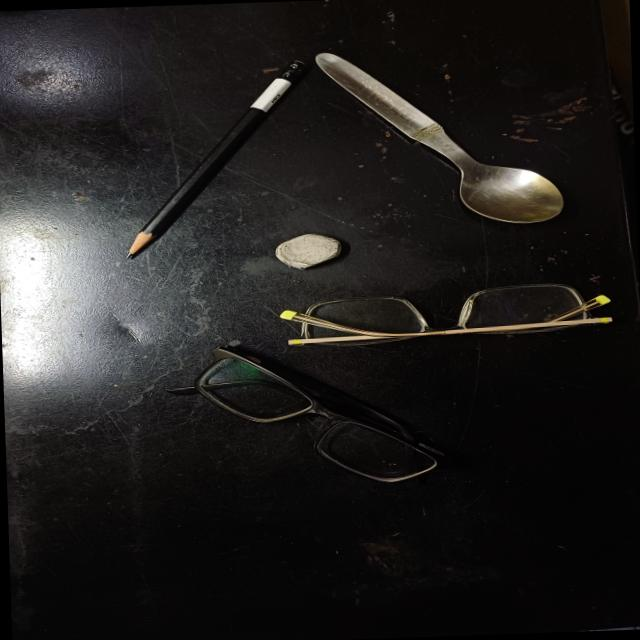Eraser-NonBio: (273, 232, 346, 272)
Pencil-Bio: (114, 54, 314, 260)
Spectacles-NonBio: (141, 333, 473, 501), (275, 279, 619, 349)
Steel-NonBio: (310, 41, 568, 232)
